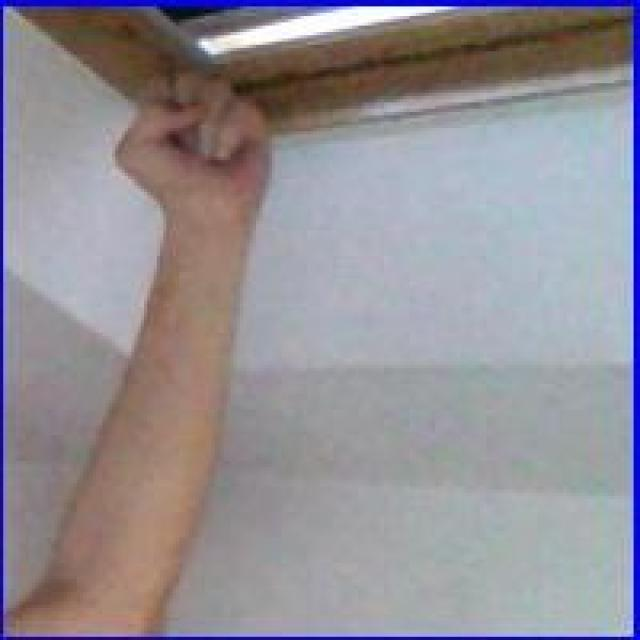S: (112, 66, 278, 222)
